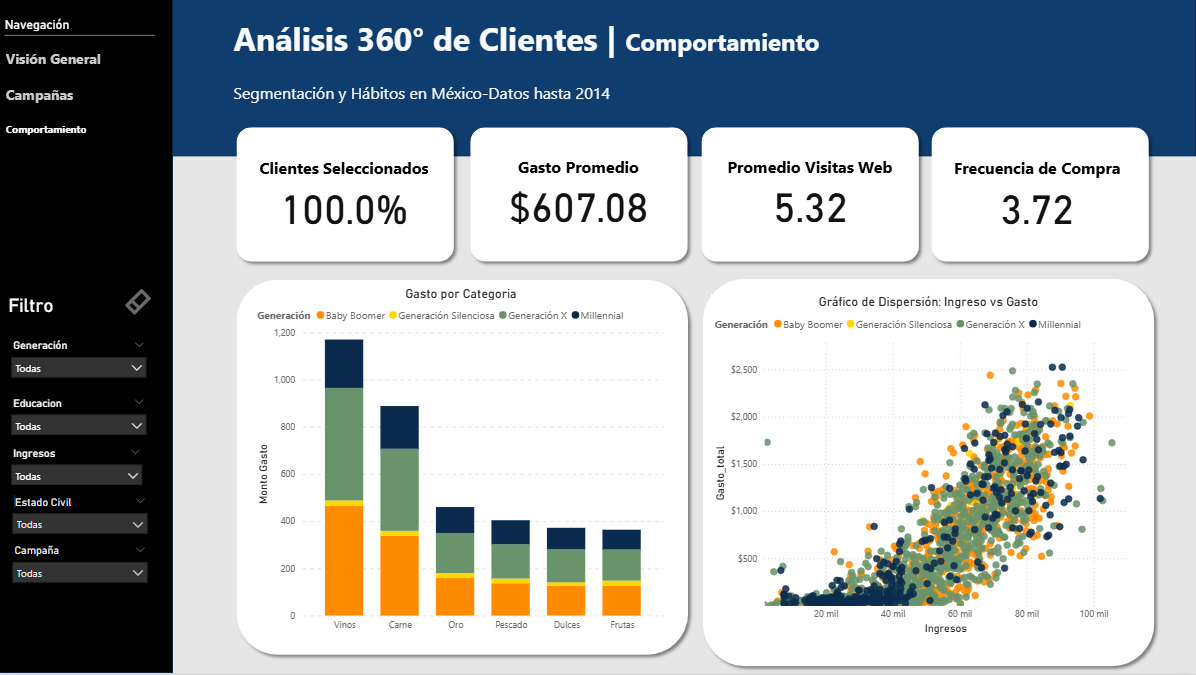

This screenshot's page, from the dashboard's own definition file:
{"tool":"powerbi","page":{"name":"Comportamiento","canvas":[1600,900],"ordinal":2},"visuals":[{"type":"shape","box":[0,0,1600,210.9],"z":0},{"type":"shape","box":[623.4,162.5,307.8,196.9],"z":1000},{"type":"textbox","box":[311.7,20,810,86.7],"z":2000},{"type":"textbox","box":[310.9,106.2,832.8,42.2],"z":3000},{"type":"shape","box":[0,0,235.9,900],"z":4000},{"type":"shape","box":[310.9,162.5,307.8,196.9],"z":5000},{"type":"slicer","fields":{"Values":["dim_cliente.Educacion"]},"box":[10,526.7,200,66.7],"z":6000},{"type":"slicer","fields":{"Values":["dim_campana.Numero_Campana"]},"box":[11.7,723.3,200,66.7],"z":7000},{"type":"slicer","fields":{"Values":["dim_cliente.Estado_Civil"]},"box":[11.7,658.3,200,65],"z":8000},{"type":"actionButton","box":[168.8,382.8,42.2,43.8],"z":9000},{"type":"textbox","title":"Filtro","box":[10.9,395.3,82.8,31.2],"z":10000},{"type":"cardVisual","fields":{"Data":["Avg(dim_cliente.Dias_Desde_Ultima_Compra)"]},"box":[1260,178.3,268.3,163.3],"z":11000},{"type":"slicer","fields":{"Values":["dim_cliente.Generación"]},"box":[10,450,200,76],"z":12000},{"type":"slicer","fields":{"Values":["dim_cliente.categoria_ingresos"]},"box":[10,593.3,195,65],"z":13000},{"type":"shape","box":[1239.1,162.5,307.8,196.9],"z":14000},{"type":"shape","box":[931.2,162.5,307.8,196.9],"z":15000},{"type":"shape","box":[312,366,620,518],"z":16000},{"type":"shape","box":[933.3,365,620,535],"z":17000},{"type":"cardVisual","fields":{"Data":["Avg(fact_interacciones.Visitas_Web)"]},"box":[949.5,178.4,270.3,164],"z":18000},{"type":"cardVisual","fields":{"Data":["Avg(fact_compras.Cantidad_Compras)"]},"box":[1253.3,180,270,163.3],"z":19000},{"type":"cardVisual","fields":{"Data":["Avg(dim_cliente.Gasto_total)"]},"box":[641.7,178.3,270,163.3],"z":20000},{"type":"scatterChart","title":" Gráfico de Dispersión: Ingreso vs Gasto","fields":{"Y":["dim_cliente.Gasto_total"],"X":["dim_cliente.Ingresos"],"Series":["dim_cliente.Generación"]},"box":[953.3,395,580,458.3],"z":21000},{"type":"columnChart","title":"Gasto por Categoria ","fields":{"Category":["dim_categoria_producto.Nombre_Categoria"],"Y":["Count(fact_gastos.Monto_Gasto)"],"Series":["dim_cliente.Generación"]},"box":[343.3,383.3,553.3,470],"z":22000},{"type":"cardVisual","fields":{"Data":["medidas.Clientes Seleccionados"]},"box":[330,180,268.3,163.3],"z":23000},{"type":"pageNavigator","title":"Navegación","box":[11.7,25,200,173.3],"z":24000}]}

Visuals, with their boxes on the page's 1600x900 design canvas (x1, y1, x2, y2). These are canvas units, not pixel positions in the 1196x675 screenshot, which may show the page scaled, cropped or inside an application window:
shape: (x1=0, y1=0, x2=1600, y2=211)
shape: (x1=623, y1=162, x2=931, y2=359)
textbox: (x1=312, y1=20, x2=1122, y2=107)
textbox: (x1=311, y1=106, x2=1144, y2=148)
shape: (x1=0, y1=0, x2=236, y2=900)
shape: (x1=311, y1=162, x2=619, y2=359)
slicer - dim_cliente.Educacion: (x1=10, y1=527, x2=210, y2=593)
slicer - dim_campana.Numero_Campana: (x1=12, y1=723, x2=212, y2=790)
slicer - dim_cliente.Estado_Civil: (x1=12, y1=658, x2=212, y2=723)
actionButton: (x1=169, y1=383, x2=211, y2=427)
"Filtro" textbox: (x1=11, y1=395, x2=94, y2=426)
cardVisual - Avg(dim_cliente.Dias_Desde_Ultima_Compra): (x1=1260, y1=178, x2=1528, y2=342)
slicer - dim_cliente.Generación: (x1=10, y1=450, x2=210, y2=526)
slicer - dim_cliente.categoria_ingresos: (x1=10, y1=593, x2=205, y2=658)
shape: (x1=1239, y1=162, x2=1547, y2=359)
shape: (x1=931, y1=162, x2=1239, y2=359)
shape: (x1=312, y1=366, x2=932, y2=884)
shape: (x1=933, y1=365, x2=1553, y2=900)
cardVisual - Avg(fact_interacciones.Visitas_Web): (x1=950, y1=178, x2=1220, y2=342)
cardVisual - Avg(fact_compras.Cantidad_Compras): (x1=1253, y1=180, x2=1523, y2=343)
cardVisual - Avg(dim_cliente.Gasto_total): (x1=642, y1=178, x2=912, y2=342)
" Gráfico de Dispersión: Ingreso vs Gasto" scatterChart: (x1=953, y1=395, x2=1533, y2=853)
"Gasto por Categoria " columnChart: (x1=343, y1=383, x2=897, y2=853)
cardVisual - medidas.Clientes Seleccionados: (x1=330, y1=180, x2=598, y2=343)
"Navegación" pageNavigator: (x1=12, y1=25, x2=212, y2=198)
